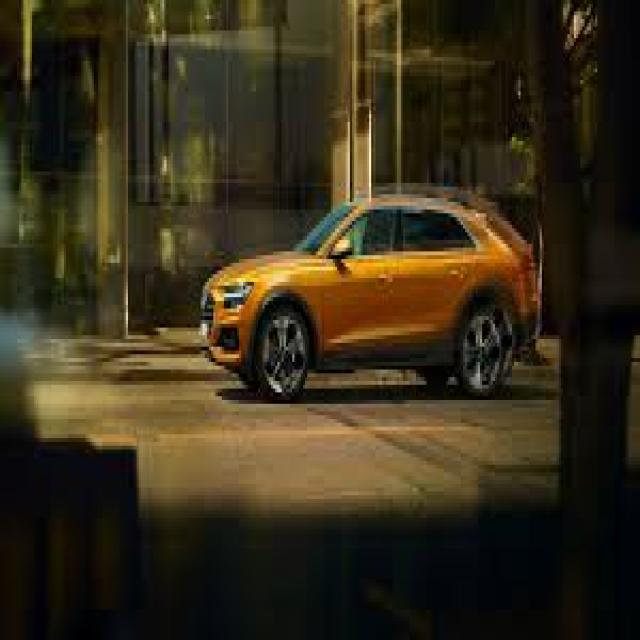SUV: (200, 190, 544, 402)
